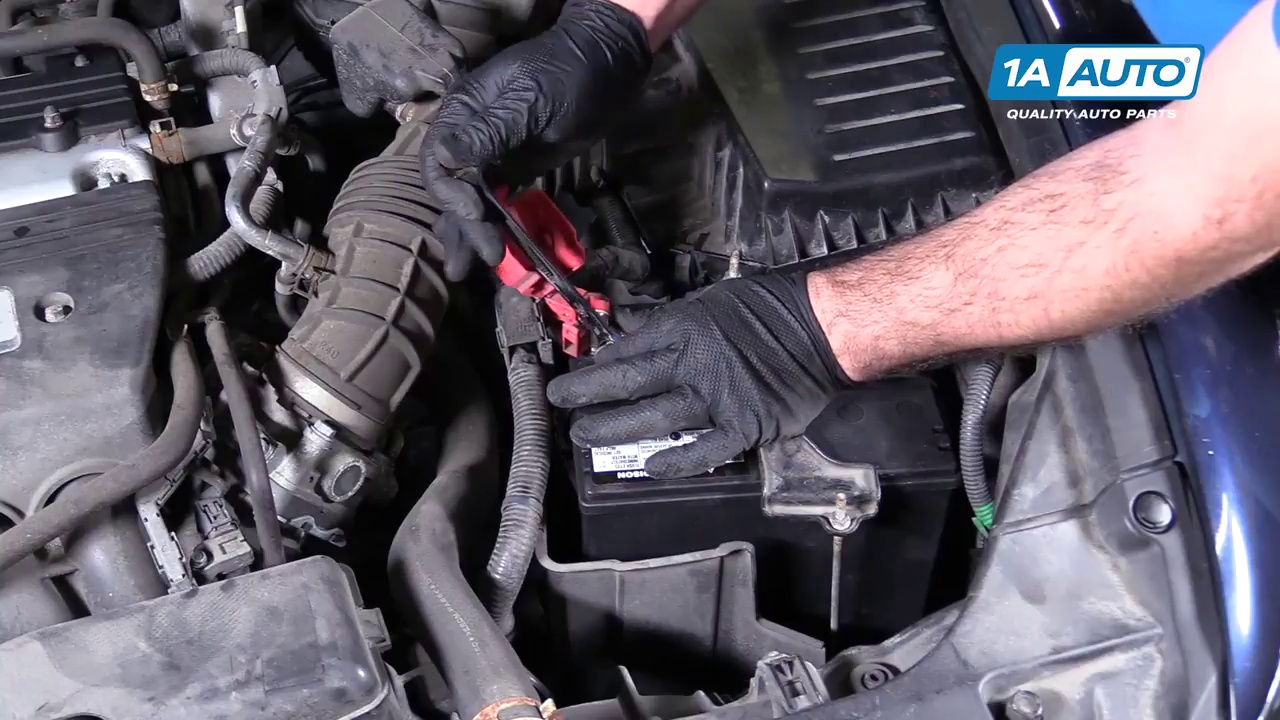battery: (560, 314, 971, 486)
pos_touched: (499, 199, 653, 421)
